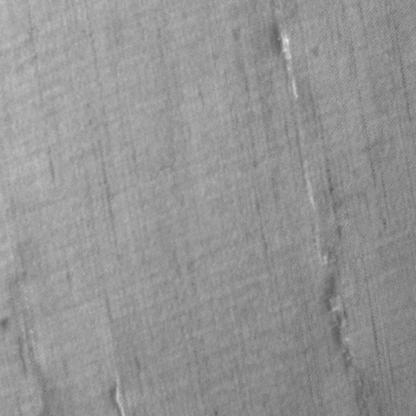thread error: (314, 152, 378, 415), (258, 0, 302, 105), (106, 374, 134, 415)
